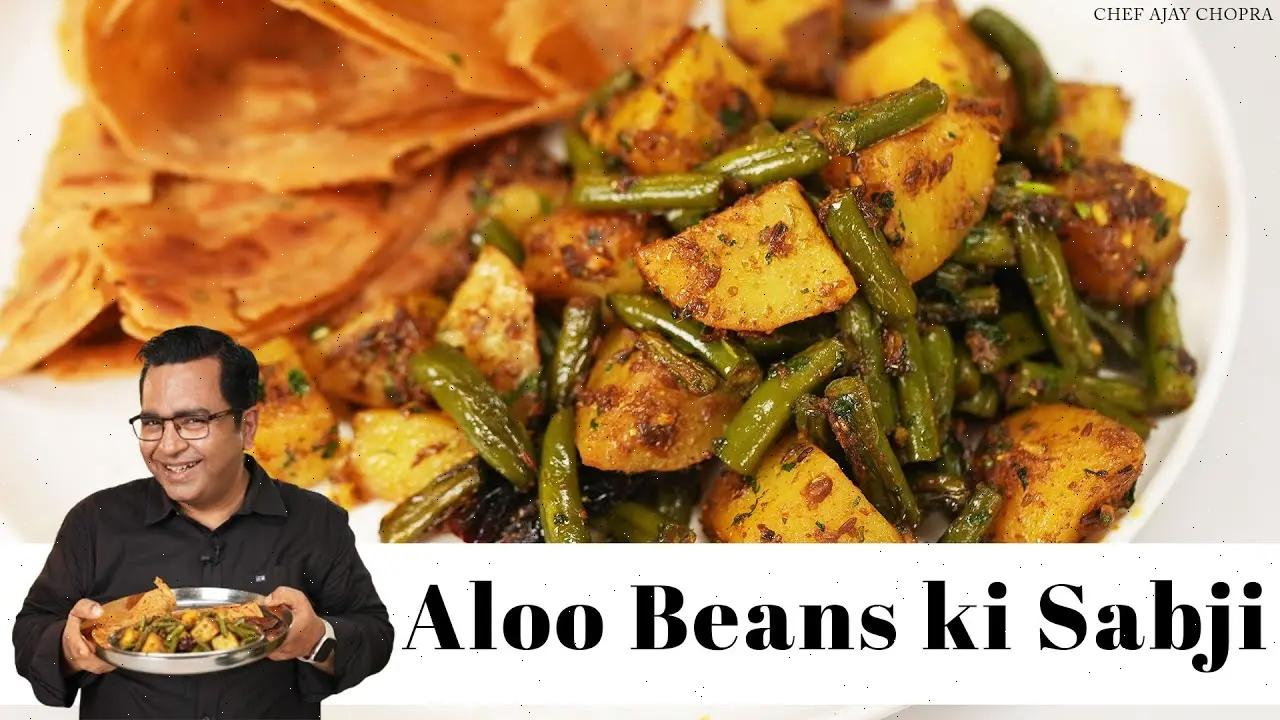aloo sabji: (599, 29, 1123, 526)
roti phulka: (48, 0, 609, 284)
